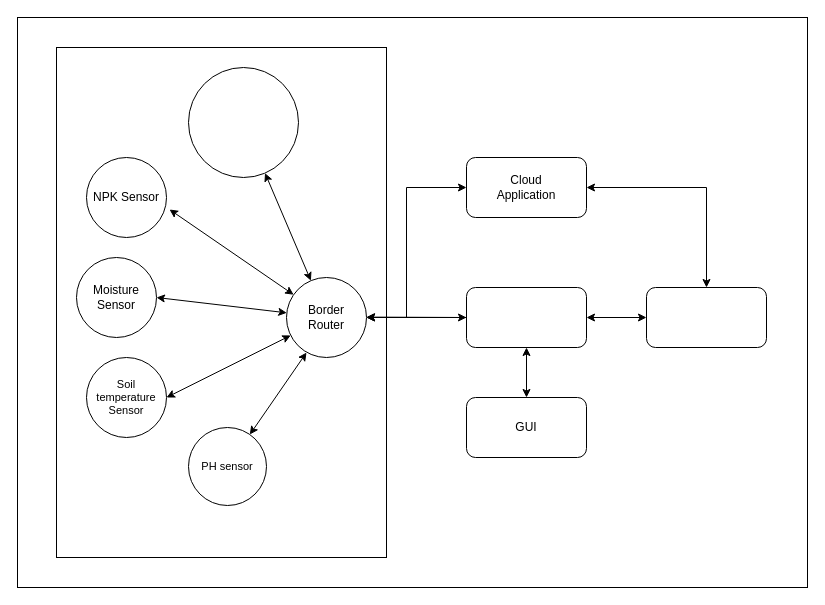
This 825x605 diagram has some shape labels left out. The shapes that lost their labels are listed below. From the top down, each one's centre as x and y in pixels, then its label:
(x=243, y=122): Movement and Sowing actuator + ML model
(x=526, y=317): Remote Control Application
(x=706, y=317): Database
